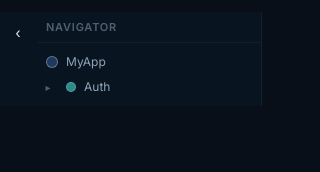
TreeNav component › renders decision buttons under expanded component
The image size is (320, 172).
Note: Expand the feature to reveal components and decisions
Click the button with class "tree-accordion__arrow".
click(48, 86)  # box left=38, top=80, right=58, bottom=92
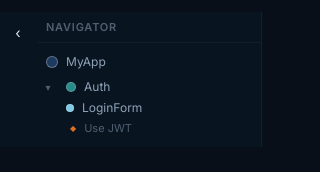
expect the button titled "Use JWT" is shown: met, box left=58, top=118, right=261, bottom=138
